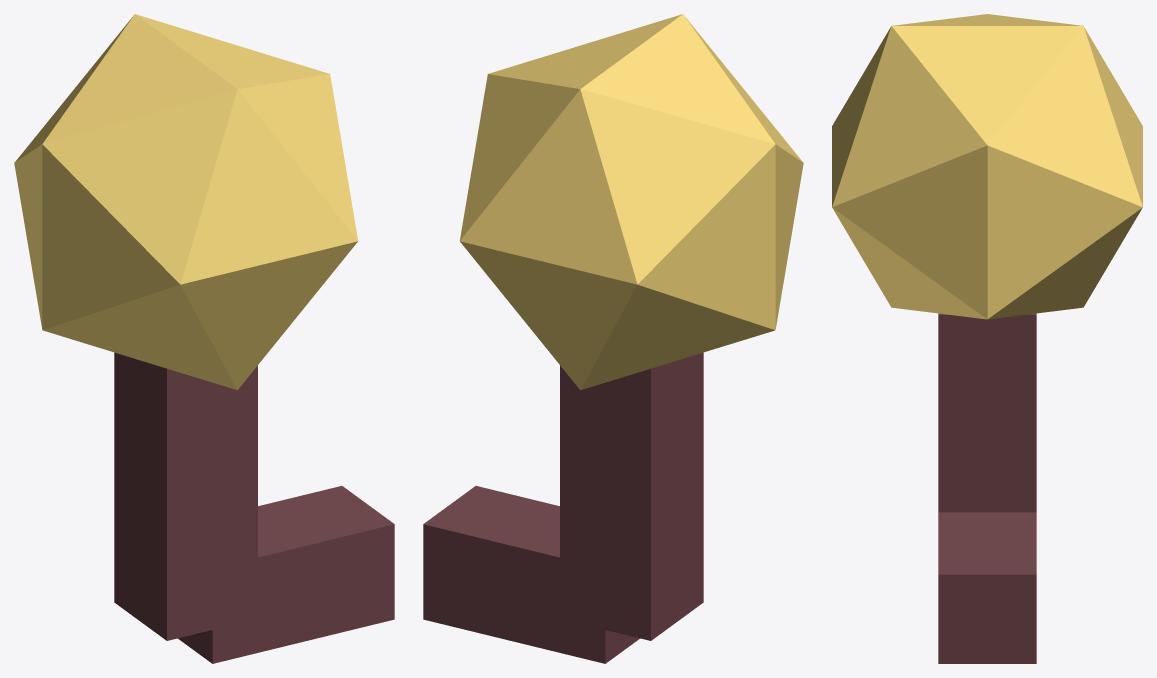
File: lure.glb
The picture shows the model from 3 angles, left to right: view 1: azimuth 30°, elevation 25°; view 2: azimuth 150°, elevation 25°; view 3: azimuth 270°, elevation 25°; orthographic projection. The views are drawn at different scales.
Parts seen in each view (by area): view 1: Ball, Shank, Barb; view 2: Ball, Shank, Barb; view 3: Ball, Shank, Barb.
Part boxes in pixels (left/top/right/bottom): Ball: left=14, top=14, right=357, bottom=390; Shank: left=114, top=352, right=257, bottom=640; Barb: left=178, top=486, right=394, bottom=663; Ball: left=460, top=14, right=803, bottom=390; Shank: left=560, top=352, right=703, bottom=640; Barb: left=423, top=486, right=639, bottom=663; Ball: left=832, top=14, right=1142, bottom=319; Shank: left=938, top=313, right=1036, bottom=512; Barb: left=938, top=512, right=1036, bottom=663.
Bounding box in the file's own units: 0.2506 × 0.4356 × 0.2212.
